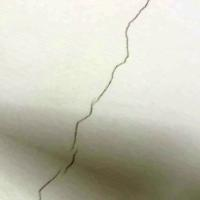crack: (28, 0, 151, 199)
